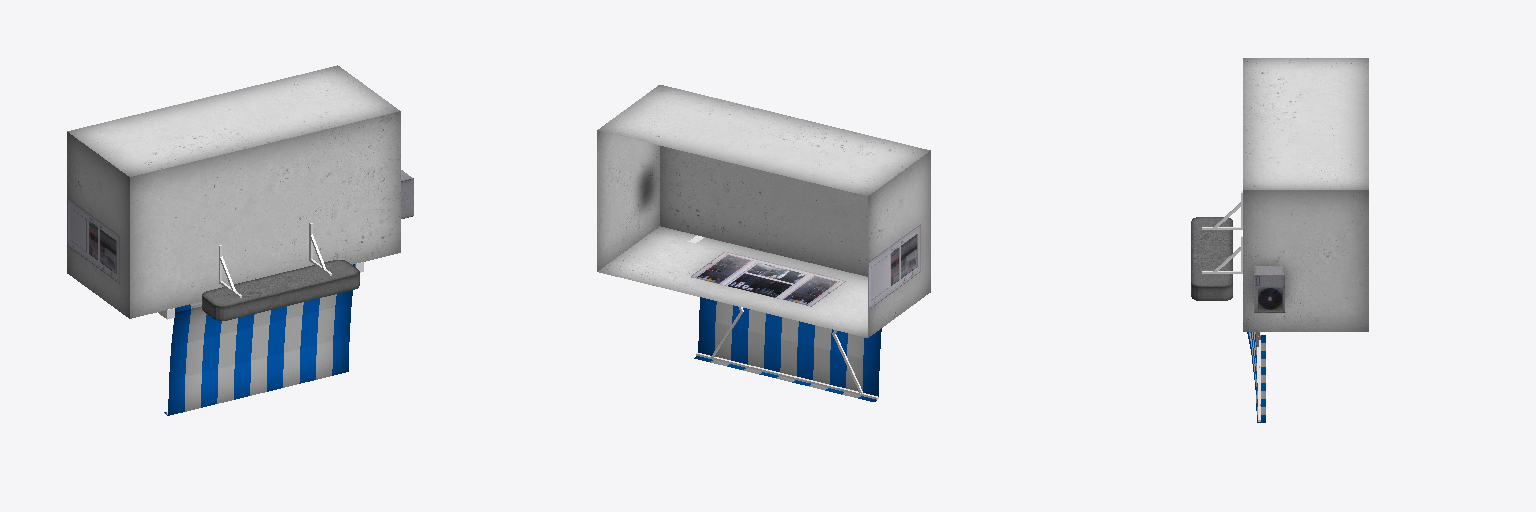
The picture shows the model from 3 angles: view 1: azimuth 30°, elevation 25°; view 2: azimuth 150°, elevation 25°; view 3: azimuth 270°, elevation 25°; orthographic projection.
Parts seen in each view (by area): view 1: Icecreambooth; view 2: Icecreambooth; view 3: Icecreambooth.
Part boxes in pixels (x1,y1,x2,y2): Icecreambooth: (67, 65, 413, 415); Icecreambooth: (597, 85, 930, 401); Icecreambooth: (1191, 58, 1368, 422).
Bounding box in the file's own units: 6.4 × 5.39 × 3.4.
1 materials, 1 textured.